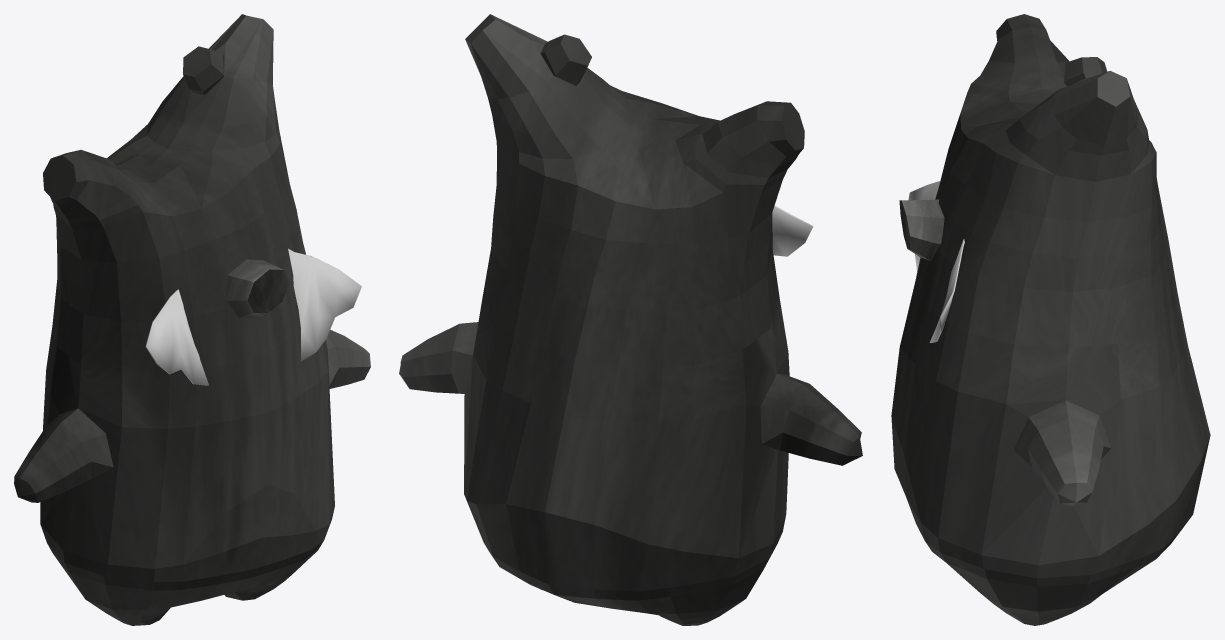
The model's file is frame_0025.obj.
The picture shows the model from 3 angles, left to right: view 1: azimuth 30°, elevation 25°; view 2: azimuth 150°, elevation 25°; view 3: azimuth 270°, elevation 25°; orthographic projection. The views are drawn at different scales.
Parts seen in each view (by area): view 1: korok, leaf, nose; view 2: korok, leaf; view 3: korok, nose, leaf.
Boxes of the visible parts, left/top/right/bottom form: korok: left=14, top=14, right=370, bottom=625; leaf: left=145, top=248, right=361, bottom=385; nose: left=225, top=259, right=288, bottom=318; korok: left=399, top=14, right=862, bottom=625; leaf: left=772, top=205, right=813, bottom=256; korok: left=891, top=14, right=1210, bottom=625; nose: left=899, top=199, right=944, bottom=260; leaf: left=908, top=181, right=964, bottom=342.
Size of the model in its own units: 1.7 by 2.29 by 1.16.
